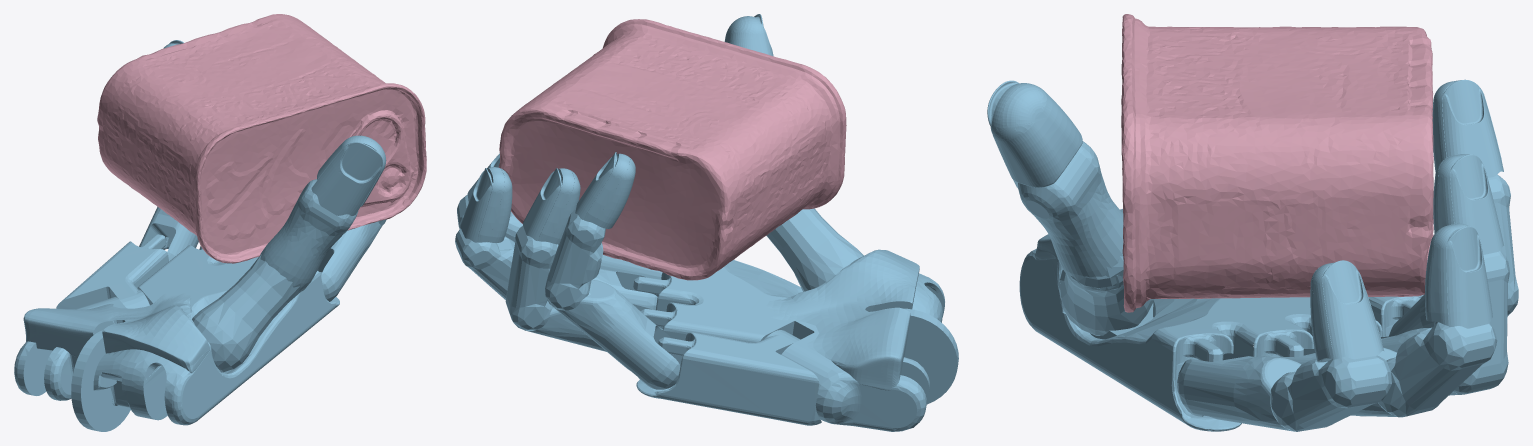
3 renders of one model, left to right at view 1: azimuth 30°, elevation 25°; view 2: azimuth 150°, elevation 25°; view 3: azimuth 270°, elevation 25°, orthographic. The views are drawn at different scales.
Visible parts, largest first — view 1: world; view 2: world; view 3: world.
Boxes of the visible parts, left/top/right/bottom form: world: left=14, top=14, right=426, bottom=431; world: left=455, top=14, right=958, bottom=431; world: left=987, top=14, right=1518, bottom=431.
Size of the model in its own units: 0.184 by 0.1229 by 0.1421.
